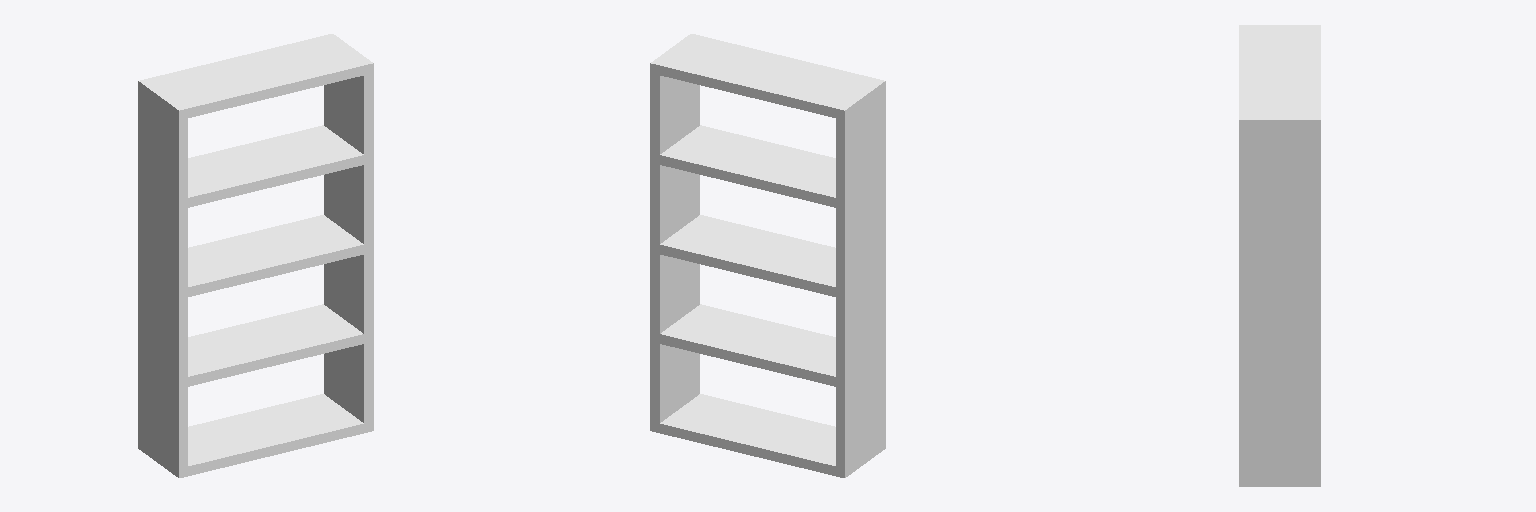
File: lack_bookcase_1_obj0_object.obj
3 views of the same model, side by side, from view 1: azimuth 30°, elevation 25°; view 2: azimuth 150°, elevation 25°; view 3: azimuth 270°, elevation 25° (orthographic).
Visible parts, largest first — view 1: Mesh1 Lack_Wall_Bookcase___W1 Model; view 2: Mesh1 Lack_Wall_Bookcase___W1 Model; view 3: Mesh1 Lack_Wall_Bookcase___W1 Model.
Boxes of the visible parts, x1=… form: Mesh1 Lack_Wall_Bookcase___W1 Model: x1=138, y1=34, x2=373, y2=477; Mesh1 Lack_Wall_Bookcase___W1 Model: x1=650, y1=34, x2=885, y2=477; Mesh1 Lack_Wall_Bookcase___W1 Model: x1=1239, y1=25, x2=1320, y2=486.
Size of the model in its own units: 41.38 by 74.75 by 15.